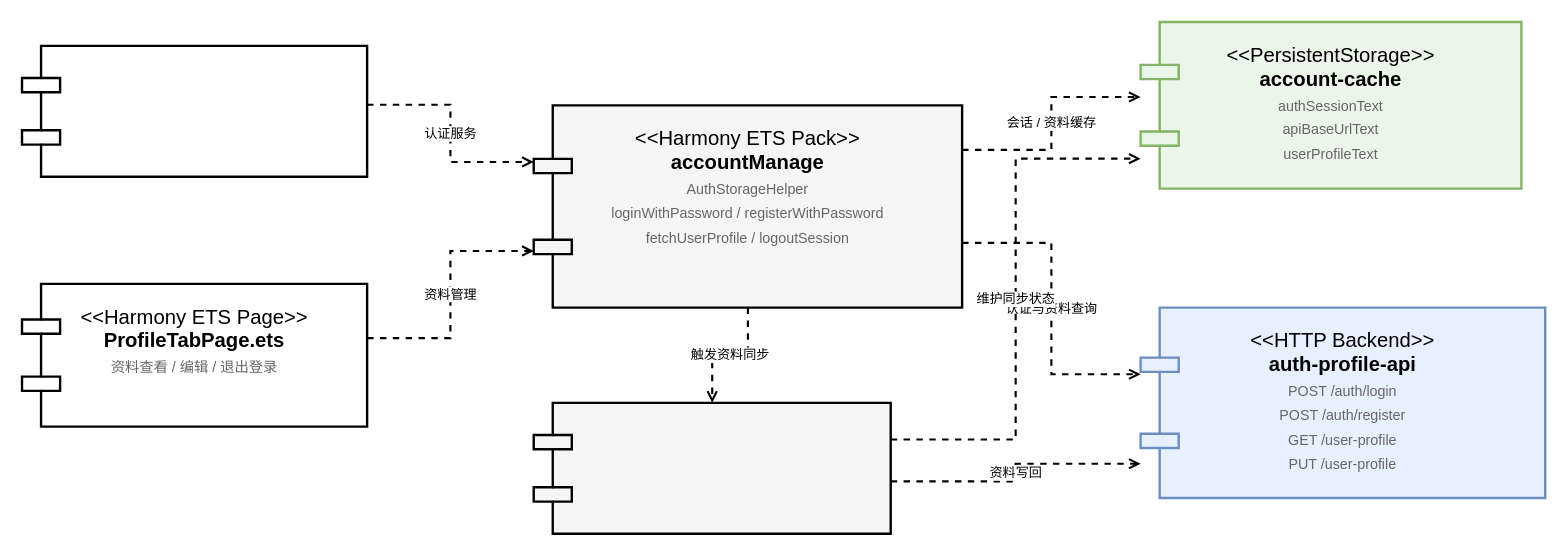
This 1566x555 diagram has some shape labels left out. The shapes that lost their labels are listed below. From the top down, each one's centre as x and y in pixels, then its label:
At pixel 194 110: "<<Harmony ETS Page>> LoginPage.ets 登录 / 注册".
At pixel 711 467: "<<Harmony ETS Pack>> syncCore 资料同步".
